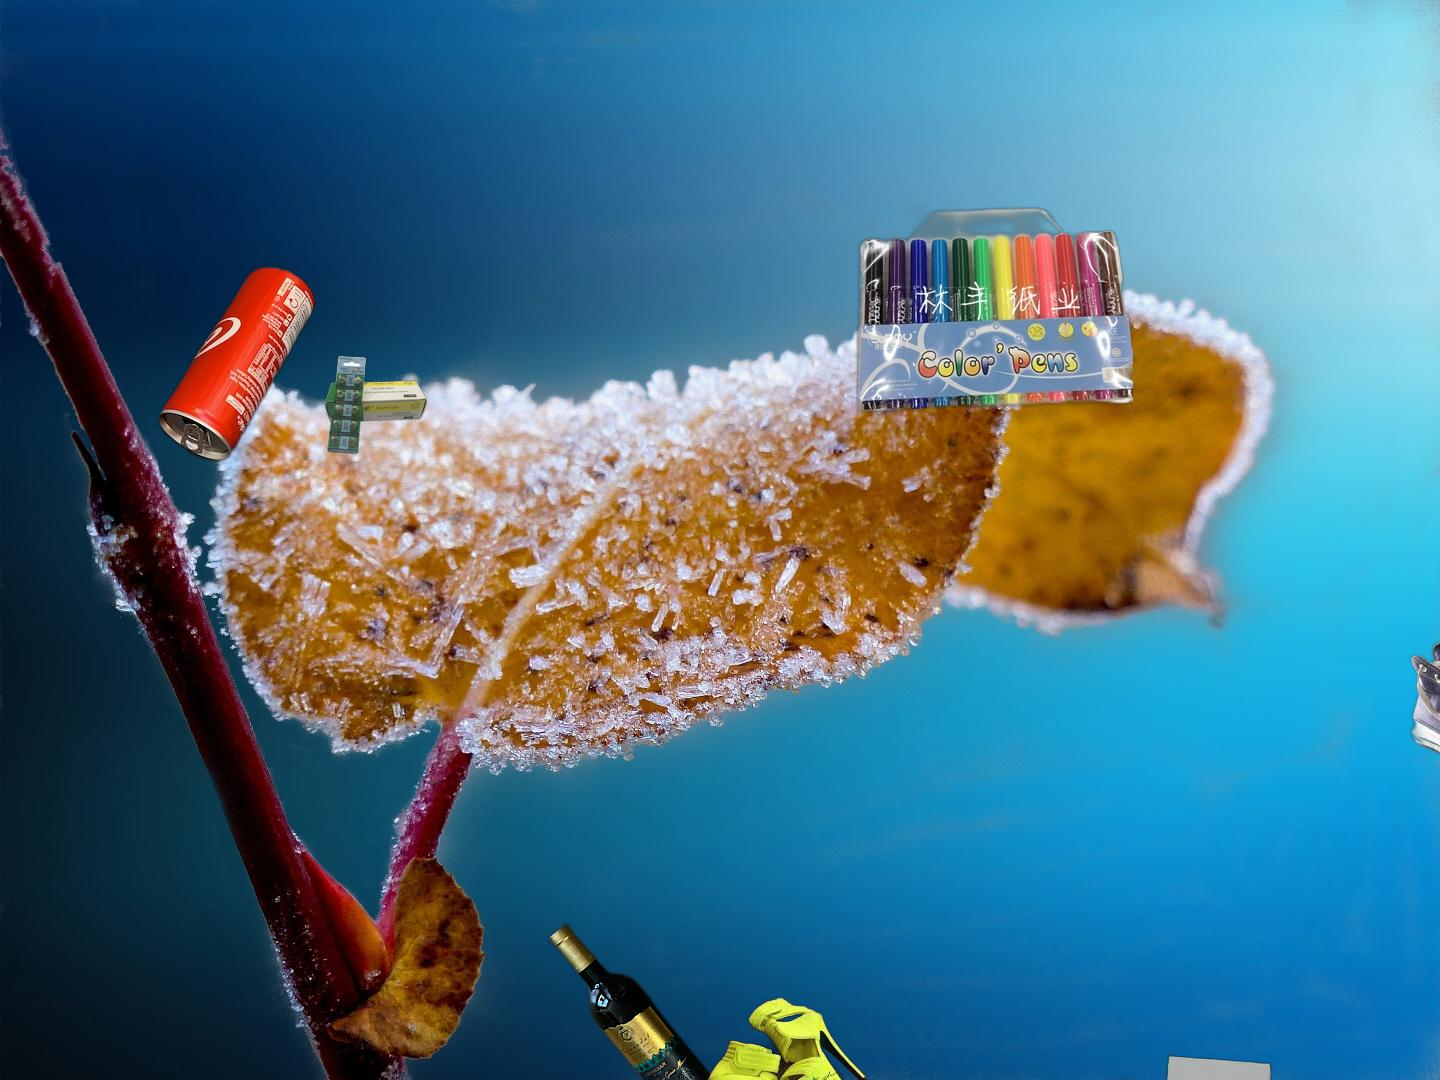battery: (322, 353, 430, 457)
glass: (545, 918, 730, 1080)
metal-cans: (153, 261, 320, 467)
paper-bag: (1091, 1053, 1274, 1080), (1428, 998, 1440, 1080)
penholder: (833, 118, 1133, 419)
shoes: (700, 997, 870, 1080), (1407, 626, 1440, 788)
